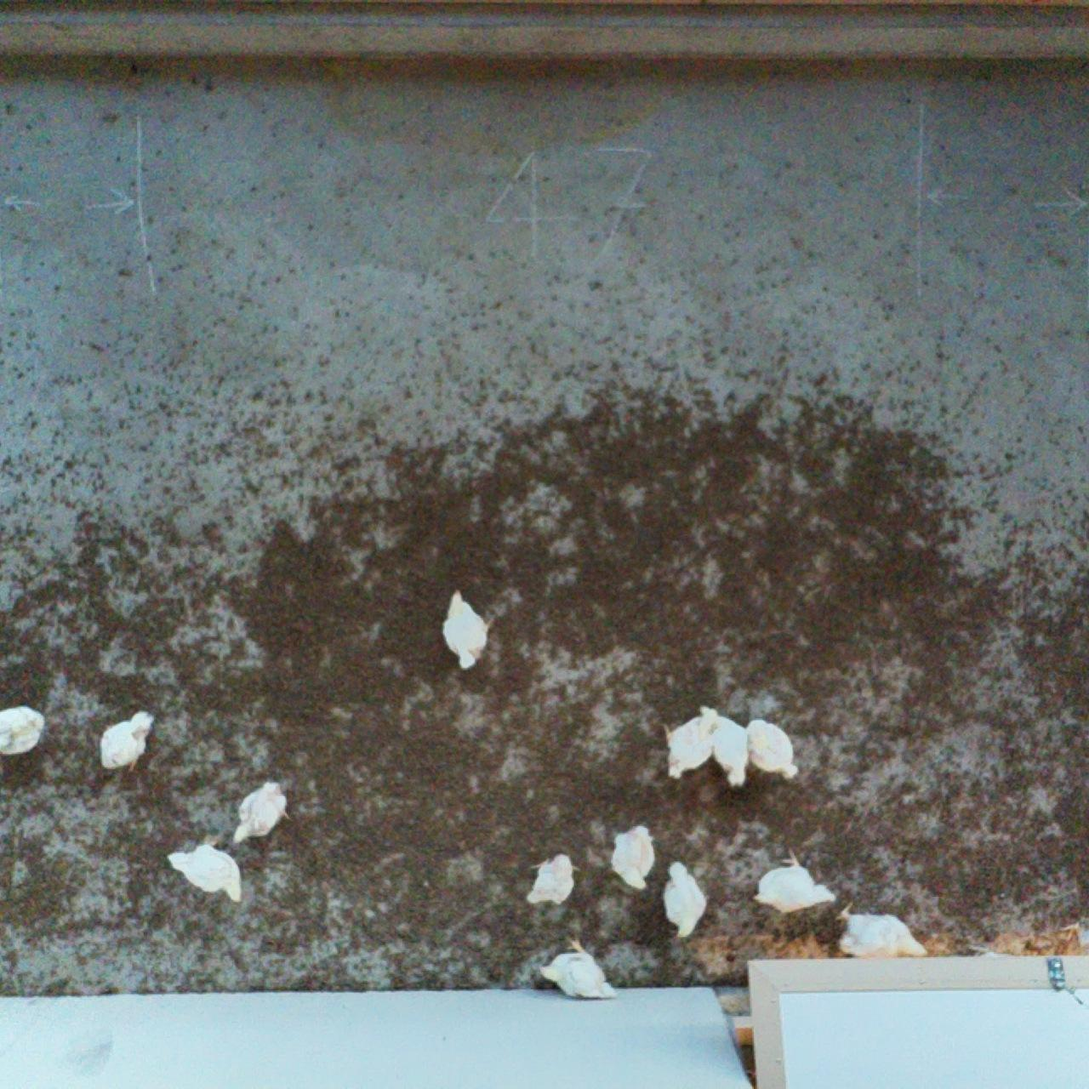chicken: (831, 897, 931, 963), (162, 833, 248, 907), (536, 930, 623, 1003), (752, 843, 839, 914), (436, 584, 498, 672), (230, 777, 295, 850), (662, 700, 718, 783), (661, 860, 713, 943), (744, 712, 805, 782), (96, 710, 157, 779), (605, 822, 659, 891), (523, 851, 583, 913), (713, 711, 754, 791), (0, 703, 51, 766)
